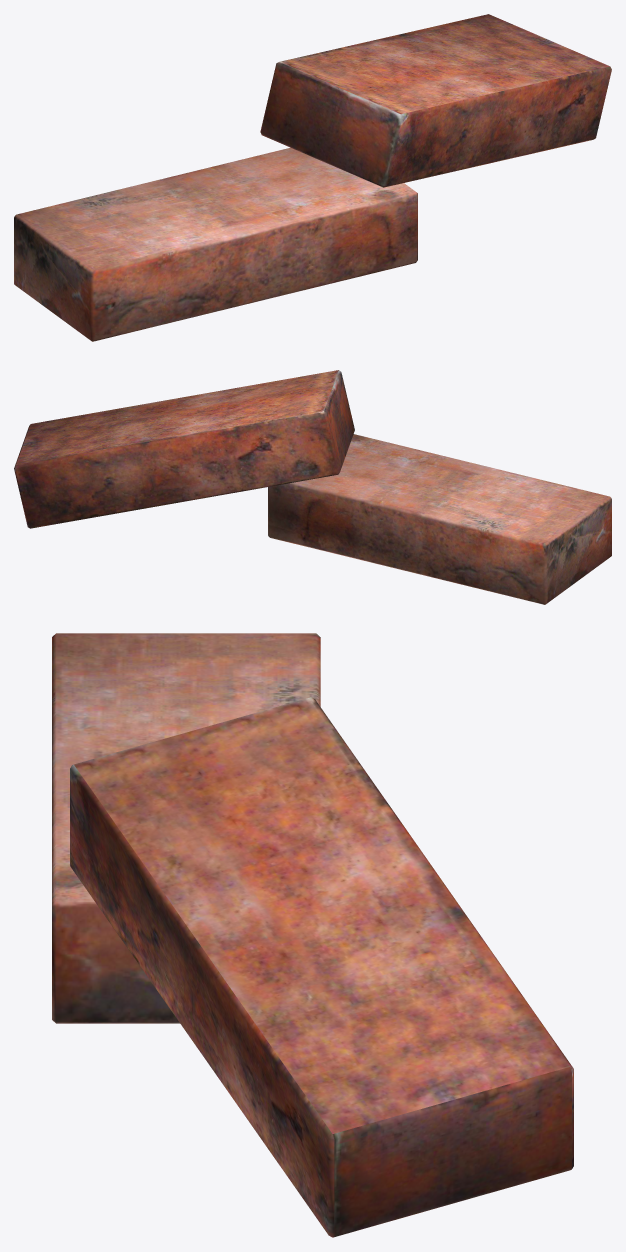
The model's file is zhuan.fbx.
The picture shows the model from 3 angles, top to bottom: view 1: azimuth 30°, elevation 25°; view 2: azimuth 150°, elevation 25°; view 3: azimuth 270°, elevation 25°; orthographic projection. The views are drawn at different scales.
Visible parts, largest first — view 1: polySurface3, polySurface2; view 2: polySurface3, polySurface2; view 3: polySurface2, polySurface3.
Part boxes in pixels (x1,y1,x2,y2): polySurface3: (14,147,417,341); polySurface2: (260,14,611,187); polySurface3: (268,434,611,604); polySurface2: (14,370,354,528); polySurface2: (70,697,573,1237); polySurface3: (52,633,320,1023).
Size of the model in its own units: 50.99 by 13.05 by 22.45.
1 material, 1 textured.
